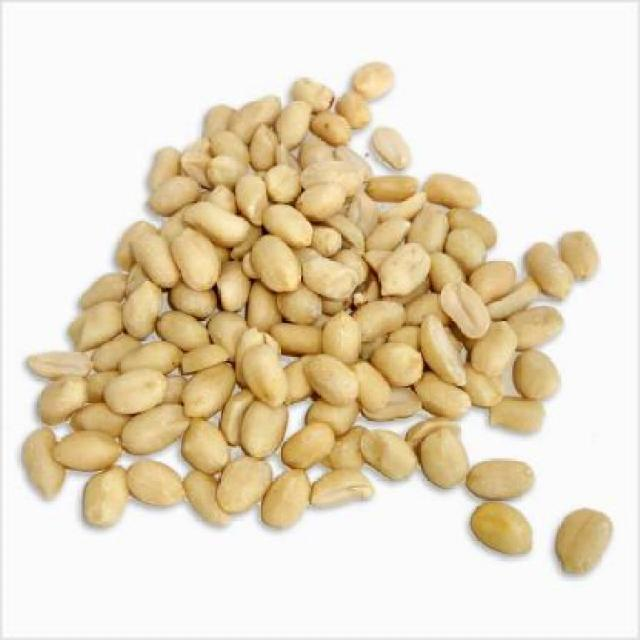Frutta secca: (28, 67, 620, 581)
